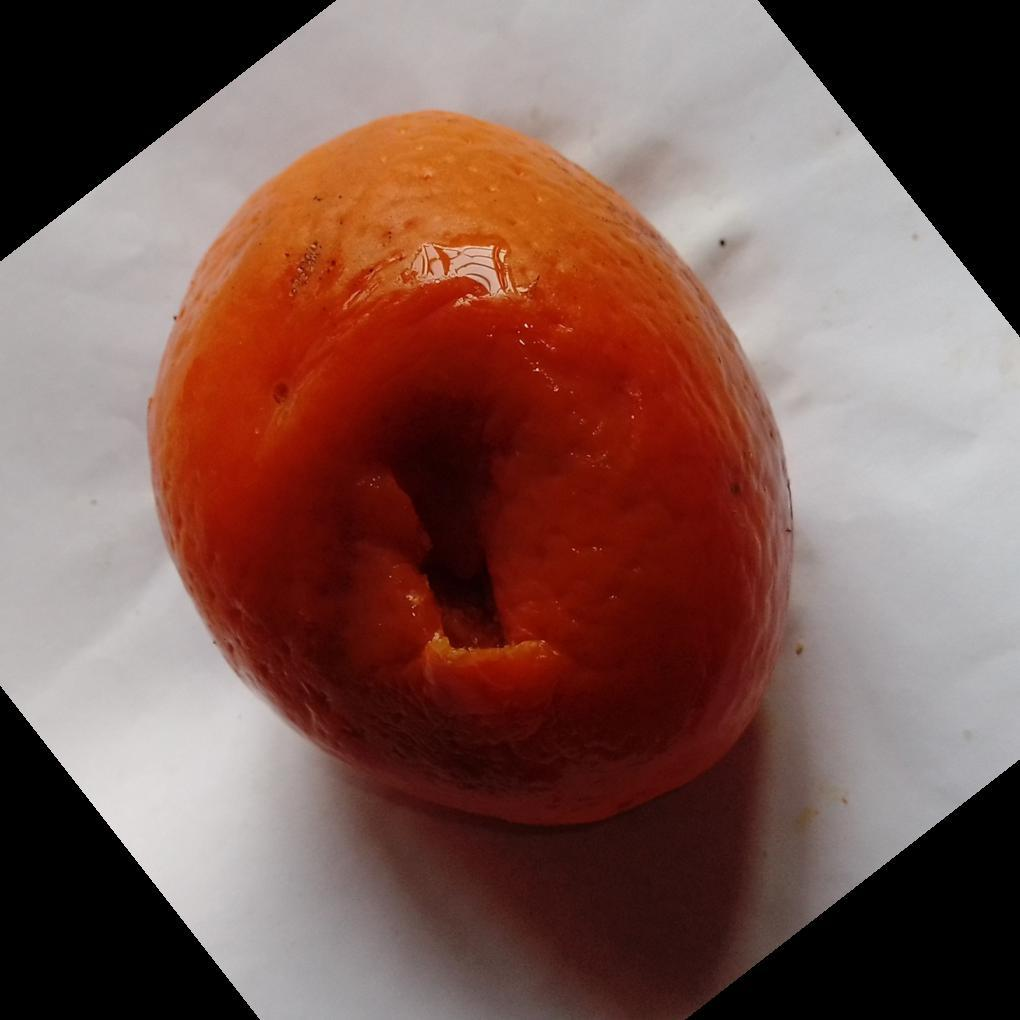FreshOrange: (145, 110, 797, 834)
